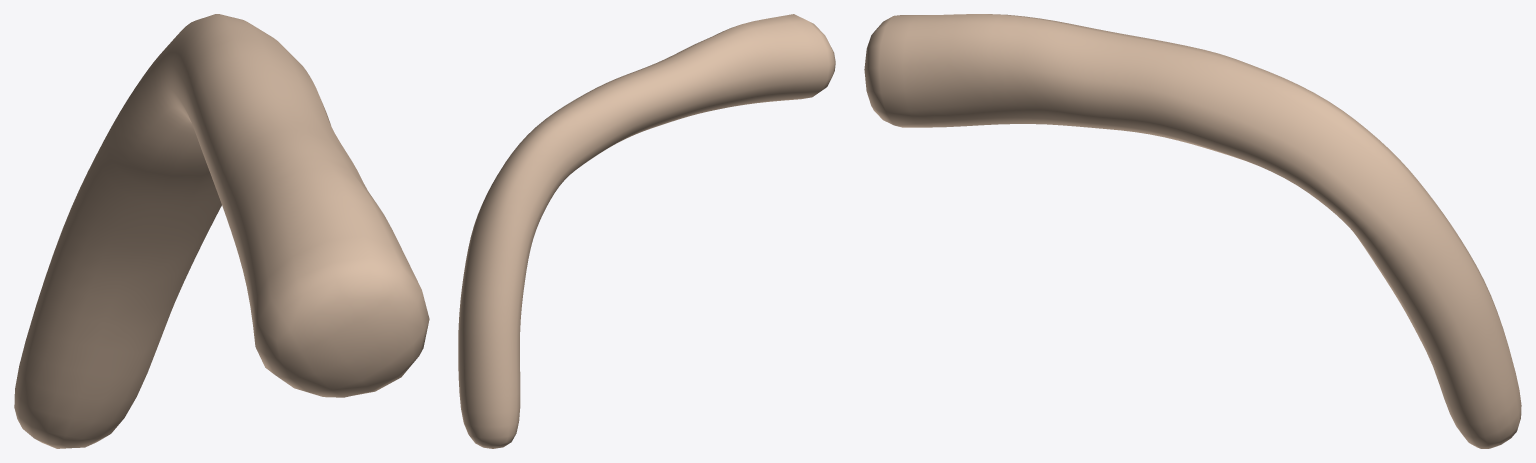
3 views of the same model, side by side, from view 1: azimuth 30°, elevation 25°; view 2: azimuth 150°, elevation 25°; view 3: azimuth 270°, elevation 25° (orthographic). The views are drawn at different scales.
Parts seen in each view (by area): view 1: 右侧踇长屈肌腱鞘; view 2: 右侧踇长屈肌腱鞘; view 3: 右侧踇长屈肌腱鞘.
Part boxes in pixels (<box>): 右侧踇长屈肌腱鞘: <box>14,14,429,448</box>; 右侧踇长屈肌腱鞘: <box>458,14,835,448</box>; 右侧踇长屈肌腱鞘: <box>864,14,1521,448</box>.
Bounding box in the file's own units: 0.0299 × 0.0483 × 0.0744.
